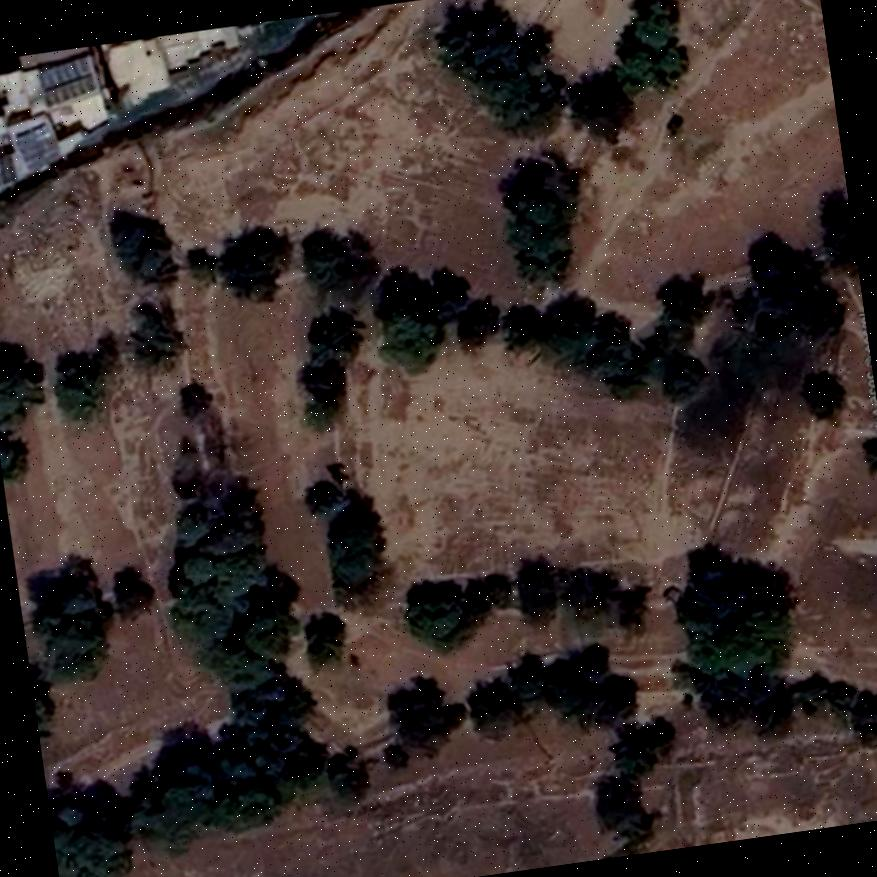Solarpanel: (35, 56, 91, 106), (13, 121, 59, 171)
